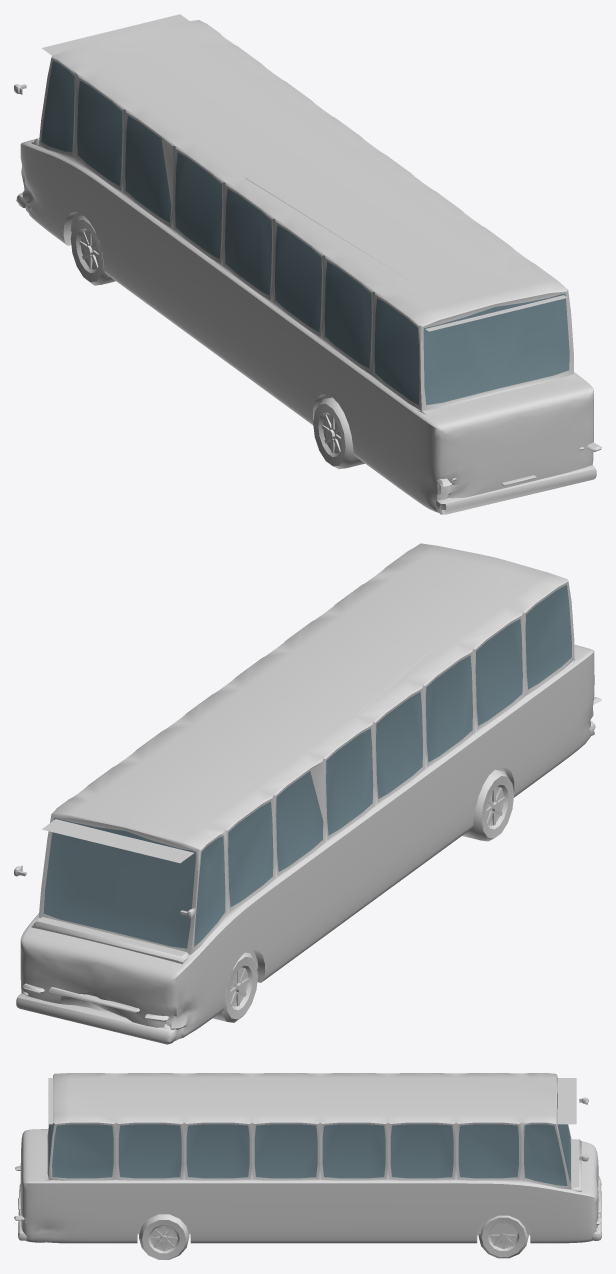
File: car_bus_dmg2.glb
The picture shows the model from 3 angles, top to bottom: view 1: azimuth 30°, elevation 25°; view 2: azimuth 150°, elevation 25°; view 3: azimuth 270°, elevation 25°; orthographic projection. The views are drawn at different scales.
Visible parts, largest first — view 1: car_bus_dmg2; view 2: car_bus_dmg2; view 3: car_bus_dmg2.
Part boxes in pixels (left/top/right/bottom): car_bus_dmg2: left=14, top=14, right=601, bottom=514; car_bus_dmg2: left=14, top=543, right=601, bottom=1044; car_bus_dmg2: left=14, top=1073, right=601, bottom=1259.
Size of the model in its own units: 2.79 by 3.04 by 11.68.
